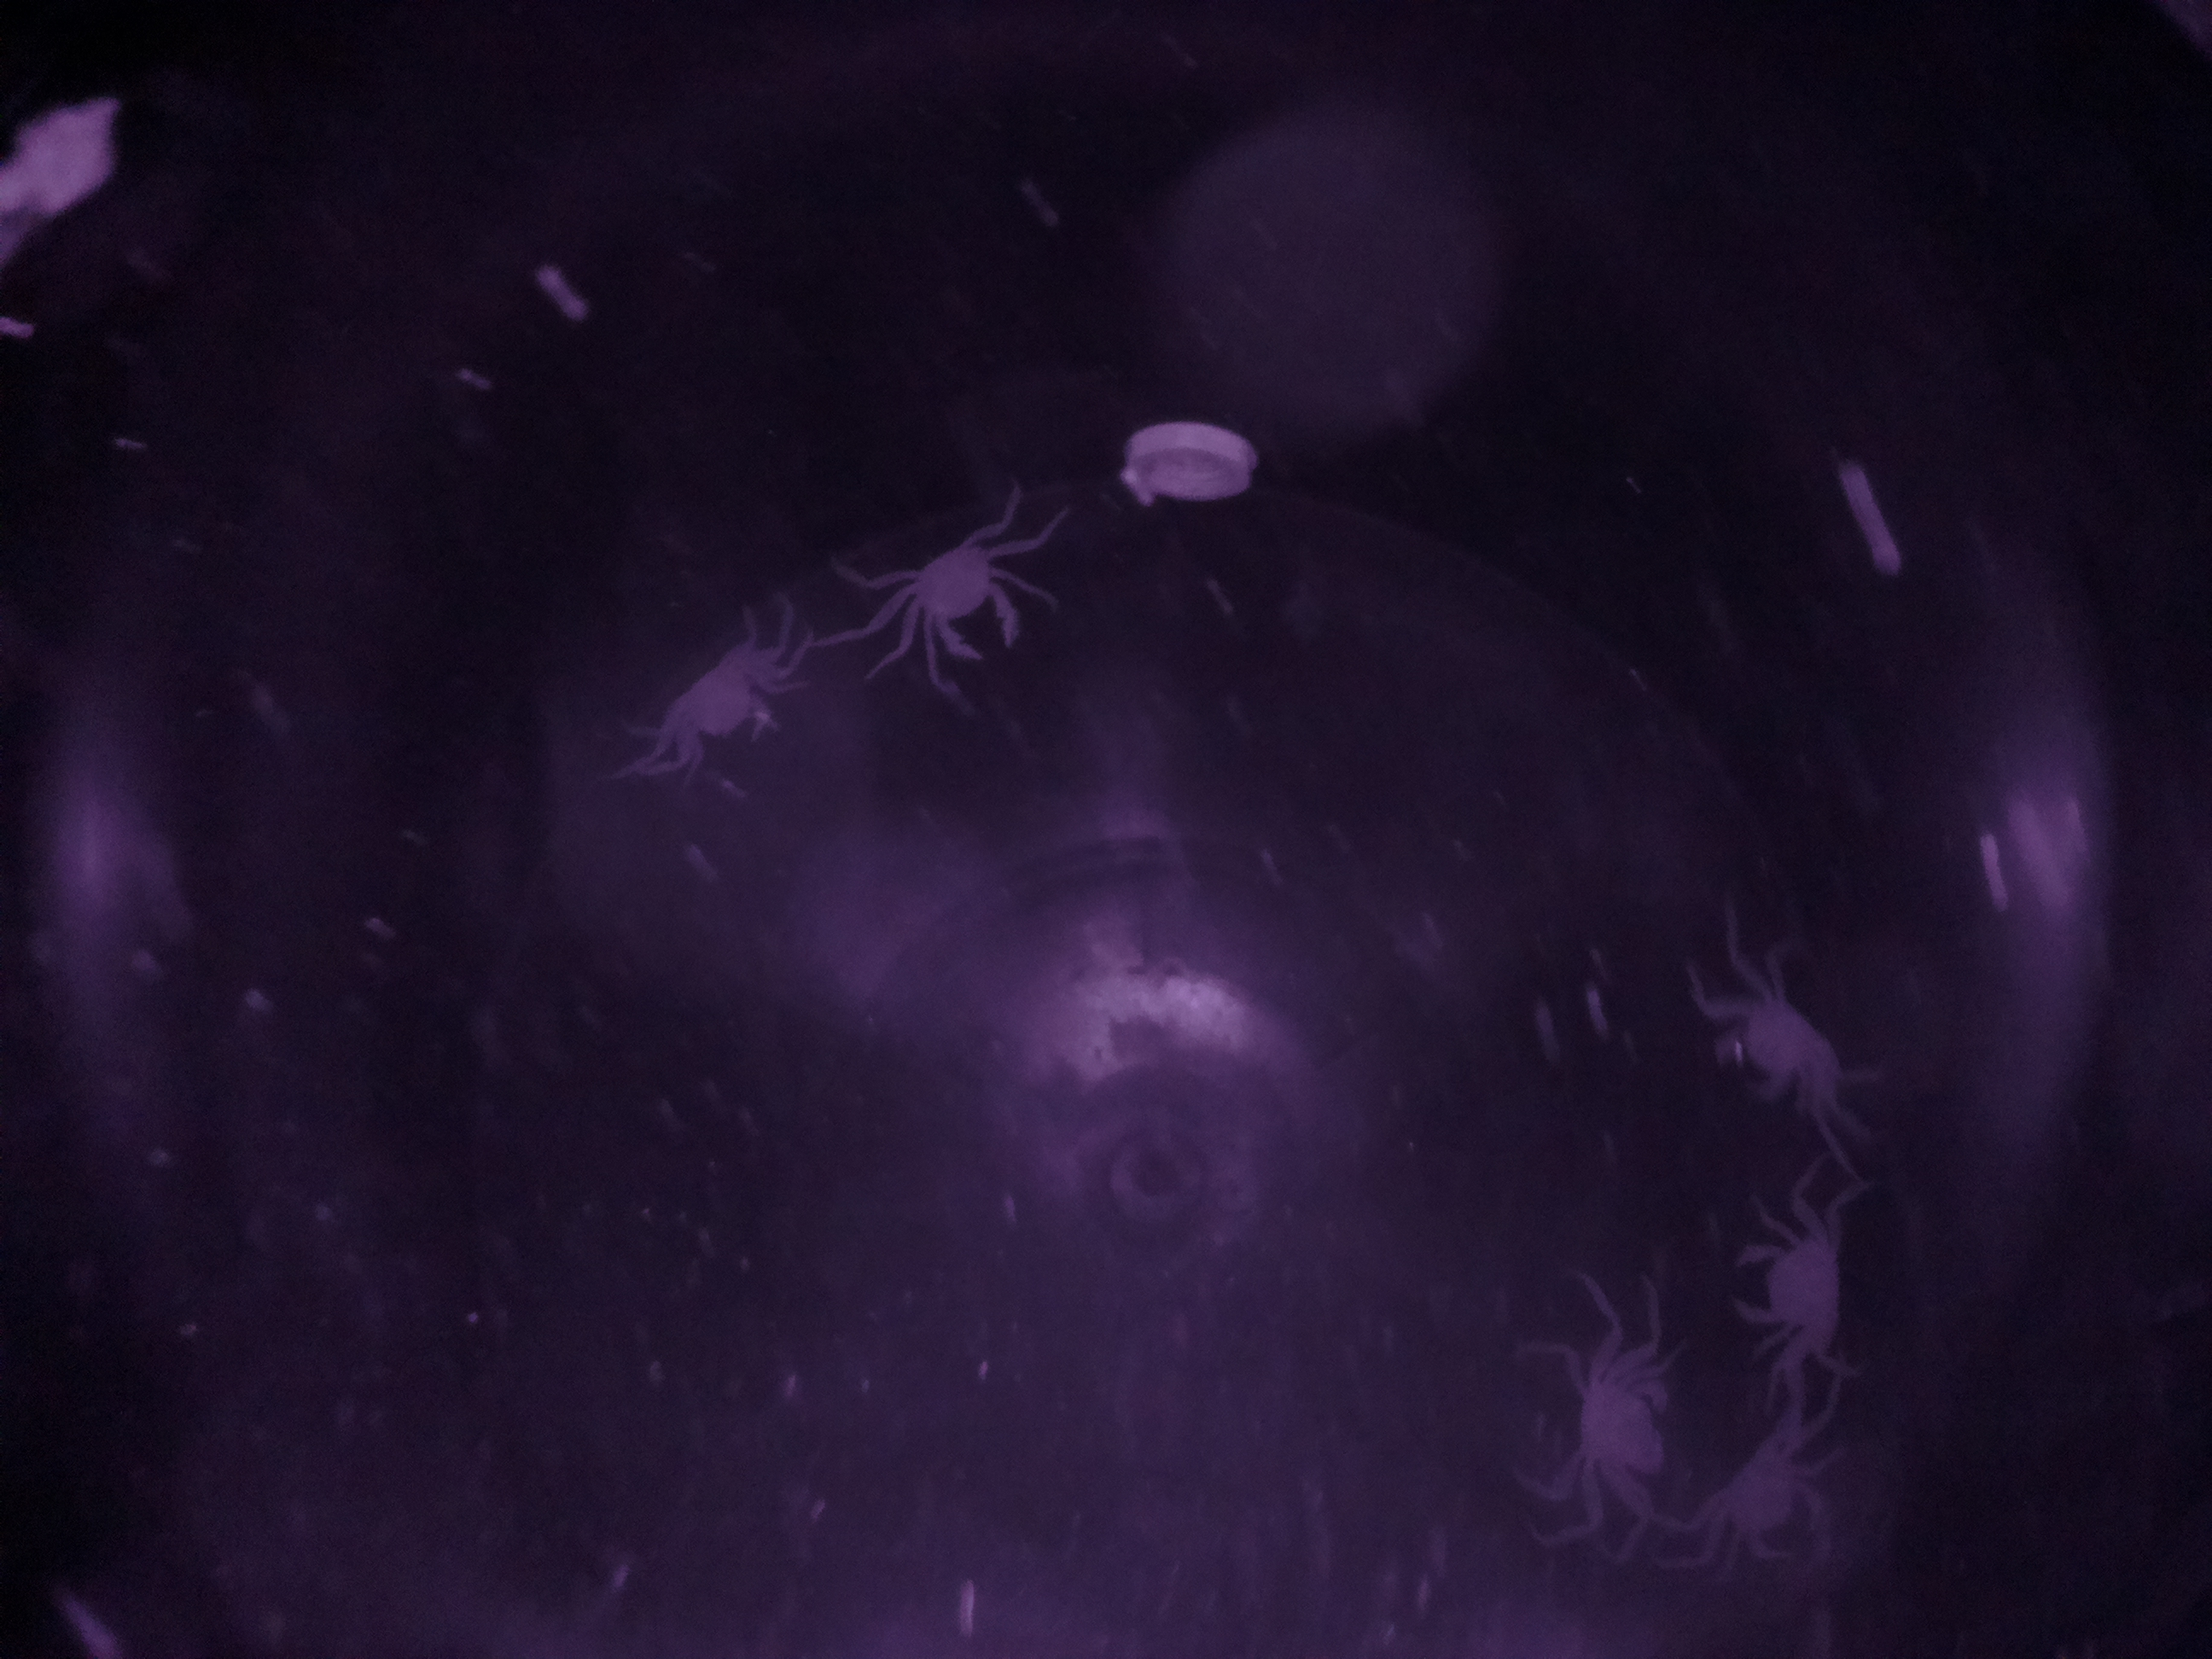Crab: (1733, 1168, 1879, 1389), (1695, 943, 1858, 1140), (864, 518, 1031, 706), (1550, 1316, 1683, 1518), (627, 615, 786, 777), (1696, 1399, 1832, 1586)
